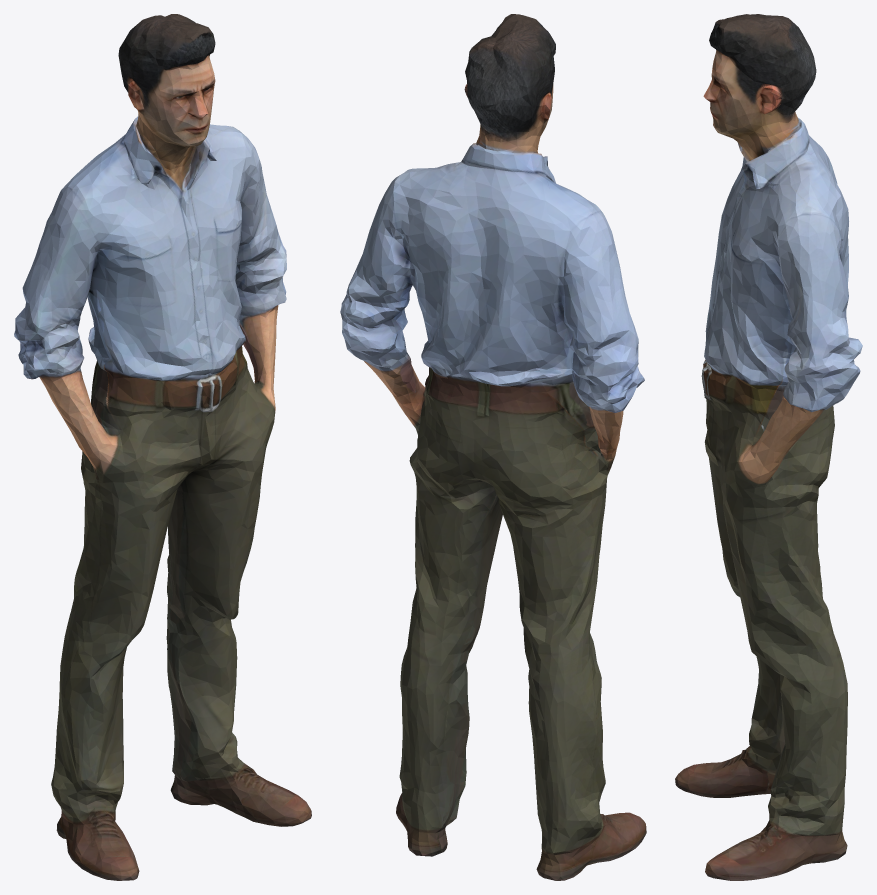
The model's file is Yigal.fbx.
3 views of the same model, side by side, from view 1: azimuth 30°, elevation 25°; view 2: azimuth 150°, elevation 25°; view 3: azimuth 270°, elevation 25° (orthographic).
Parts seen in each view (by area): view 1: temp; view 2: temp; view 3: temp.
Part boxes in pixels (x1,y1,x2,y2): temp: (14,14,311,880); temp: (340,14,646,880); temp: (675,14,862,880).
Size of the model in its own units: 71.24 by 200 by 41.84.
Materials: 1 (1 with a texture image).
